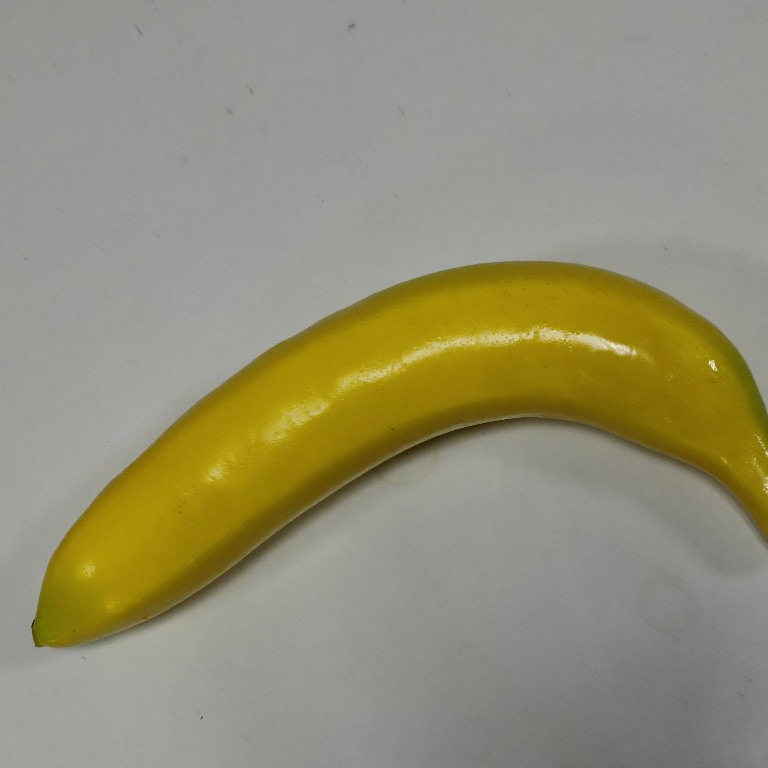fruit_banana: (27, 257, 768, 654)
